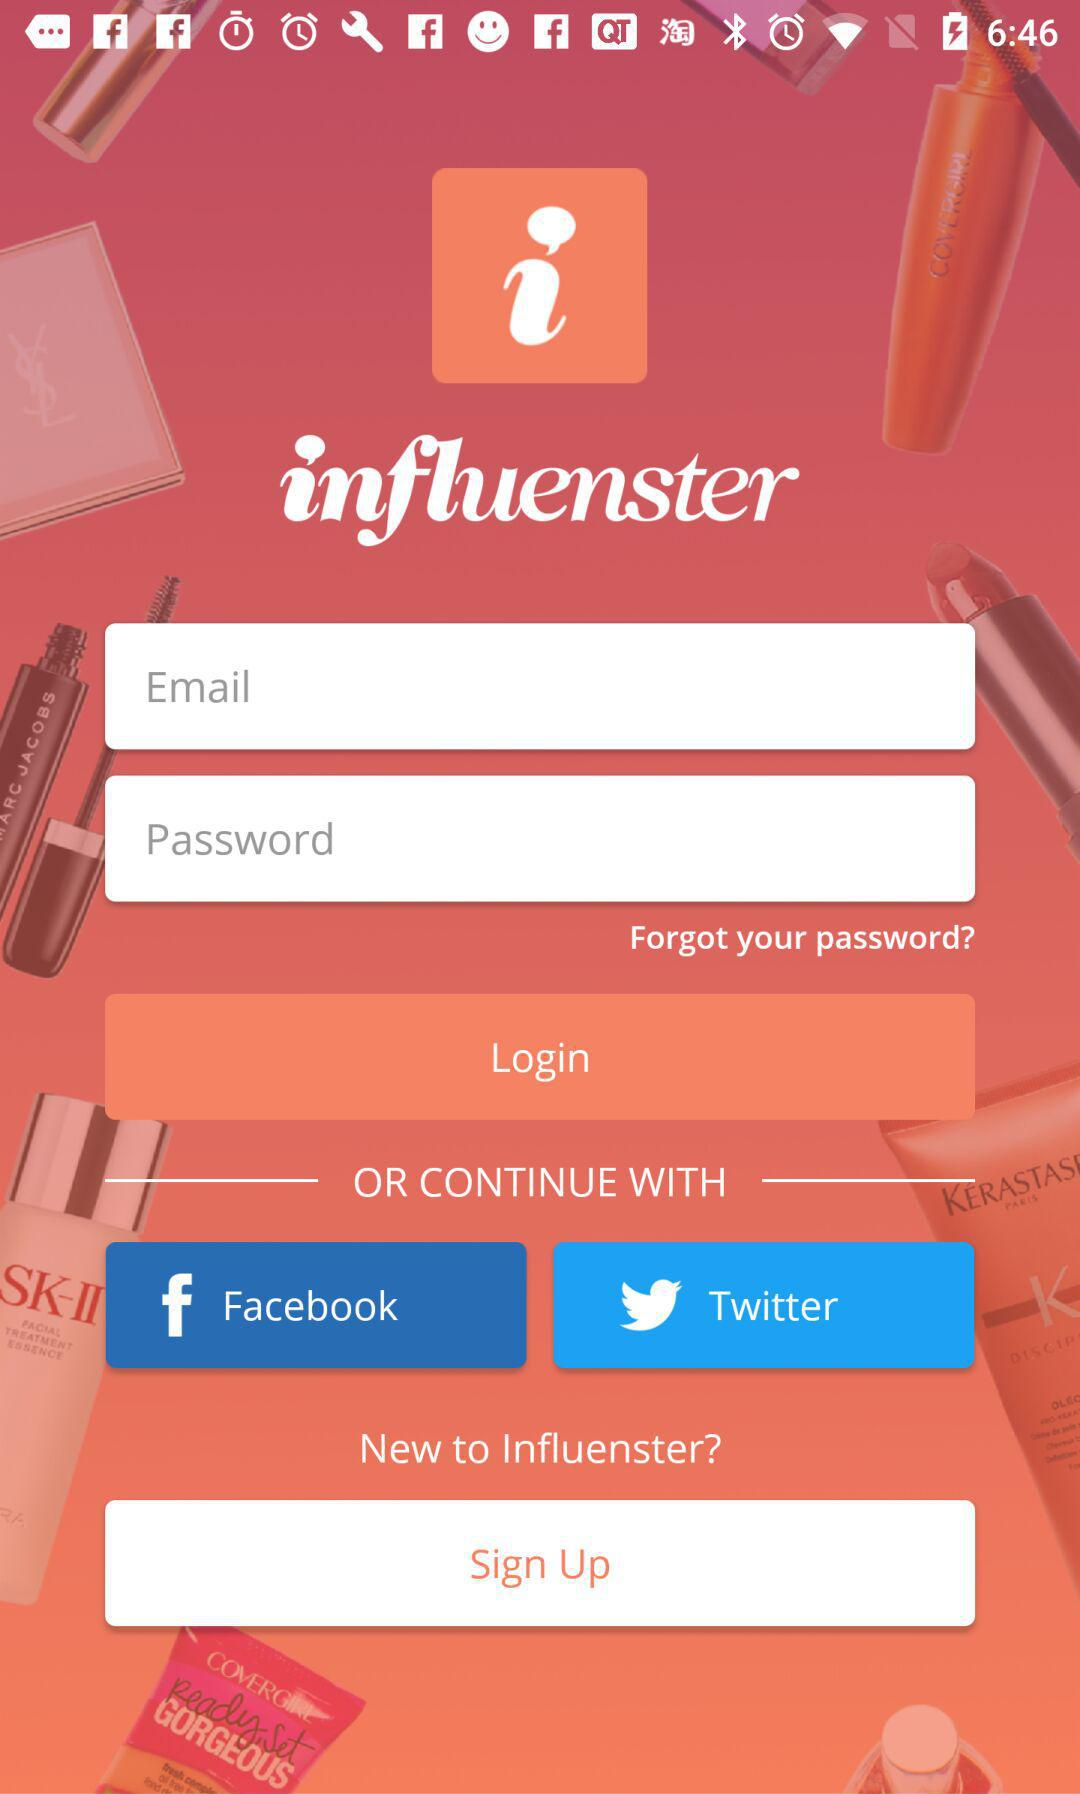BackgroundImage: (1, 56, 1080, 1794)
EditText: (105, 623, 976, 751), (105, 775, 976, 903)
Image: (279, 434, 801, 548), (432, 168, 648, 384)
Text: (348, 1160, 730, 1202), (361, 1431, 723, 1466), (632, 923, 976, 959), (149, 821, 334, 857), (149, 669, 250, 704)
TextButton: (105, 993, 976, 1121), (105, 1499, 976, 1627), (553, 1242, 975, 1369), (106, 1242, 527, 1369)
UpperTaskBar: (1, 1, 1080, 56)
